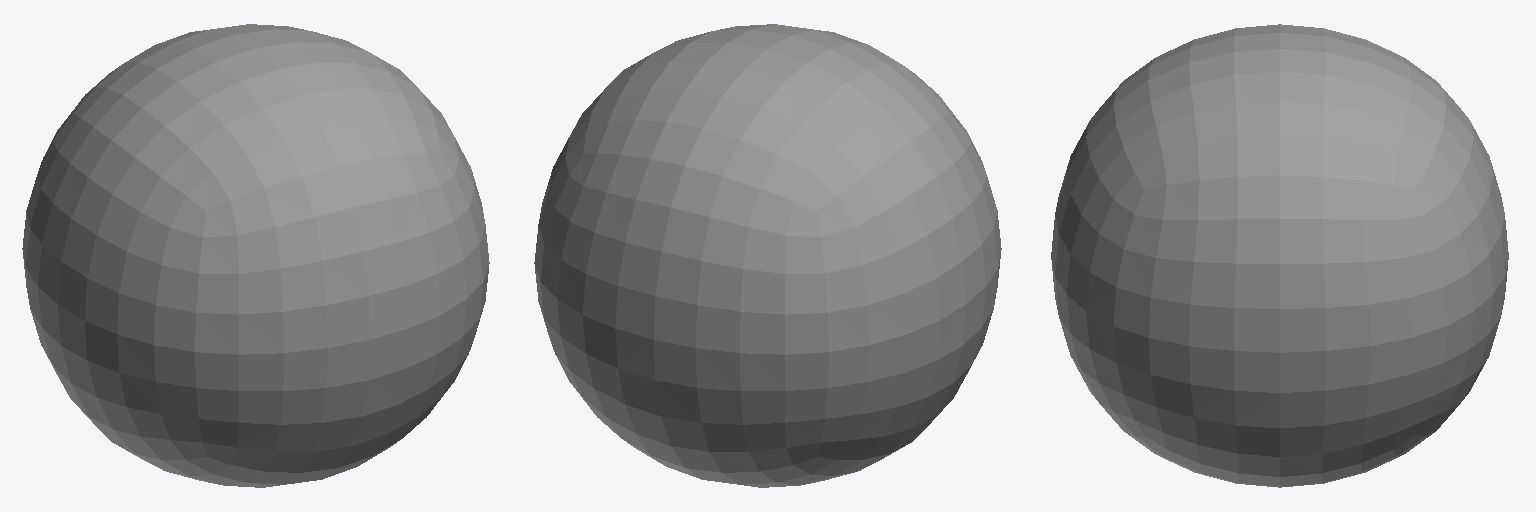
File: MaterialFacesSphereCuboid.obj
3 renders of one model, left to right at view 1: azimuth 30°, elevation 25°; view 2: azimuth 150°, elevation 25°; view 3: azimuth 270°, elevation 25°, orthographic.
Parts seen in each view (by area): view 1: Cube.005_Cube.001; view 2: Cube.005_Cube.001; view 3: Cube.005_Cube.001.
Part boxes in pixels (bbox=[...]): Cube.005_Cube.001: bbox=[22, 24, 489, 487]; Cube.005_Cube.001: bbox=[534, 24, 1001, 487]; Cube.005_Cube.001: bbox=[1051, 24, 1508, 487].
Bounding box in the file's own units: 204 × 204 × 204.